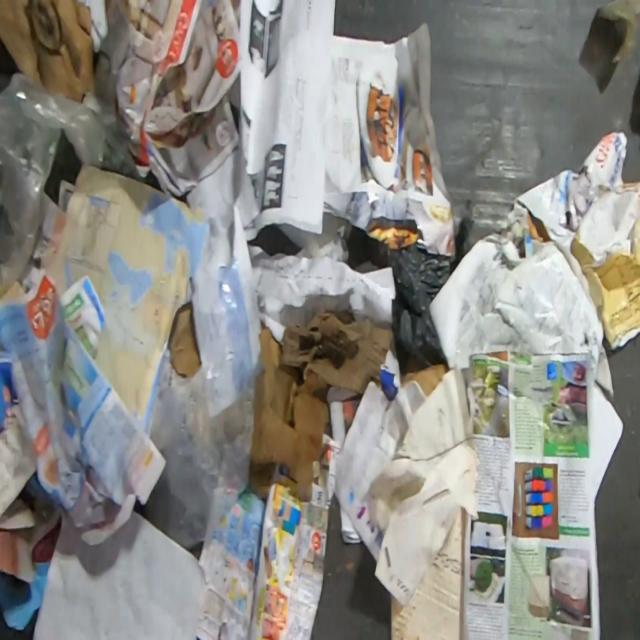cardboard: (249, 303, 393, 505), (515, 128, 628, 304), (387, 506, 463, 640), (572, 211, 639, 354), (168, 301, 200, 378), (400, 352, 450, 398)
rigid_plastic: (596, 0, 640, 65)
soft_plastic: (144, 257, 261, 552), (0, 66, 107, 300), (361, 234, 452, 372)
